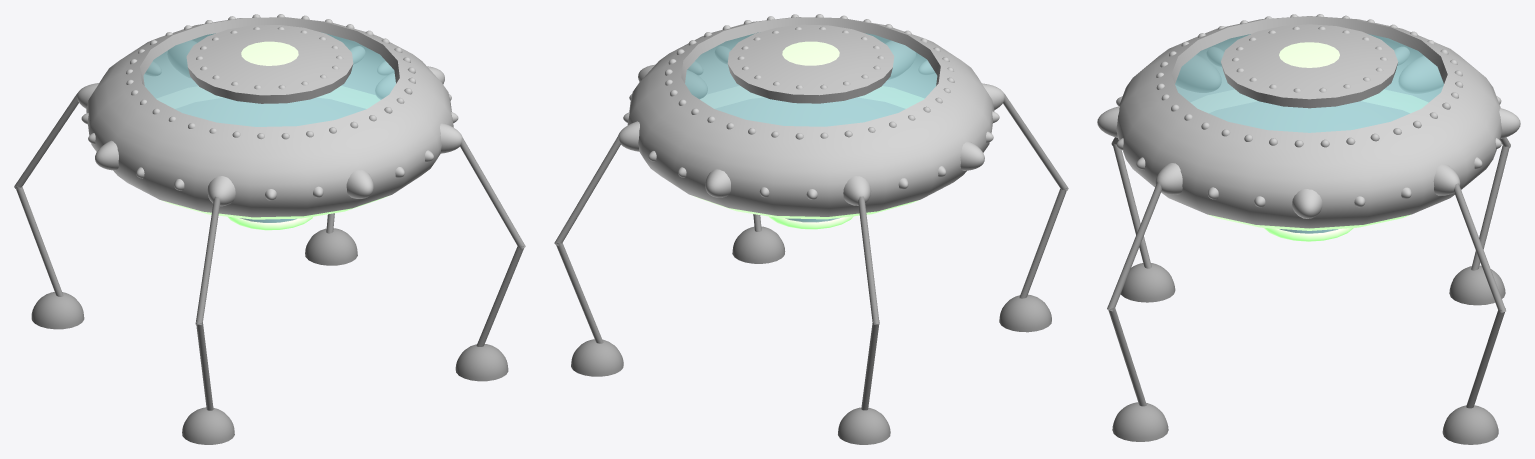
Rendered from Spaceship.fbx.
The picture shows the model from 3 angles, left to right: view 1: azimuth 30°, elevation 25°; view 2: azimuth 150°, elevation 25°; view 3: azimuth 270°, elevation 25°; orthographic projection. The views are drawn at different scales.
Visible parts, largest first — view 1: pSphere1, pSphere104, pSphere101, pSphere103, pSphere102, pCylinder8, pCylinder2, pCylinder7, pCylinder3, pCylinder6, pCylinder9, pSphere77 (+5 smaller); view 2: pSphere1, pSphere103, pSphere102, pSphere104, pSphere101, pCylinder6, pCylinder4, pCylinder9, pCylinder8, pCylinder5, pCylinder7, pSphere77 (+5 smaller); view 3: pSphere1, pSphere102, pSphere101, pSphere104, pSphere103, pSphere76, pSphere74, pCylinder4, pCylinder2, pCylinder7, pCylinder9, pCylinder3 (+7 smaller).
Part boxes in pixels (left/top/right/bottom): pSphere1: left=86, top=17, right=453, bottom=219; pSphere104: left=182, top=407, right=234, bottom=444; pSphere101: left=455, top=344, right=508, bottom=381; pSphere103: left=31, top=292, right=84, bottom=329; pSphere102: left=305, top=228, right=357, bottom=265; pCylinder8: left=195, top=196, right=220, bottom=325; pCylinder2: left=460, top=138, right=525, bottom=249; pCylinder7: left=15, top=186, right=63, bottom=296; pCylinder3: left=476, top=246, right=523, bottom=346; pCylinder6: left=14, top=93, right=78, bottom=189; pCylinder9: left=196, top=321, right=213, bottom=410; pSphere77: left=346, top=170, right=373, bottom=198; pSphere1: left=627, top=17, right=994, bottom=219; pSphere103: left=838, top=407, right=890, bottom=444; pSphere102: left=571, top=339, right=623, bottom=376; pSphere104: left=999, top=294, right=1051, bottom=332; pSphere101: left=732, top=226, right=785, bottom=263; pCylinder6: left=858, top=196, right=879, bottom=324; pCylinder4: left=554, top=136, right=620, bottom=246; pCylinder9: left=1019, top=188, right=1067, bottom=298; pCylinder8: left=1003, top=94, right=1068, bottom=191; pCylinder5: left=556, top=242, right=603, bottom=343; pCylinder7: left=861, top=320, right=879, bottom=410; pSphere77: left=886, top=41, right=915, bottom=79; pSphere1: left=1116, top=16, right=1502, bottom=230; pSphere102: left=1442, top=405, right=1498, bottom=444; pSphere101: left=1112, top=402, right=1168, bottom=441; pSphere104: left=1120, top=263, right=1175, bottom=302; pSphere103: left=1449, top=265, right=1505, bottom=305; pSphere76: left=1175, top=55, right=1221, bottom=92; pSphere74: left=1398, top=56, right=1443, bottom=93; pCylinder4: left=1454, top=183, right=1505, bottom=313; pCylinder2: left=1107, top=182, right=1161, bottom=311; pCylinder7: left=1471, top=144, right=1510, bottom=270; pCylinder9: left=1112, top=142, right=1151, bottom=268; pCylinder3: left=1108, top=307, right=1146, bottom=406.
Bounding box in the file's own units: 19.02 × 15.26 × 19.02.
